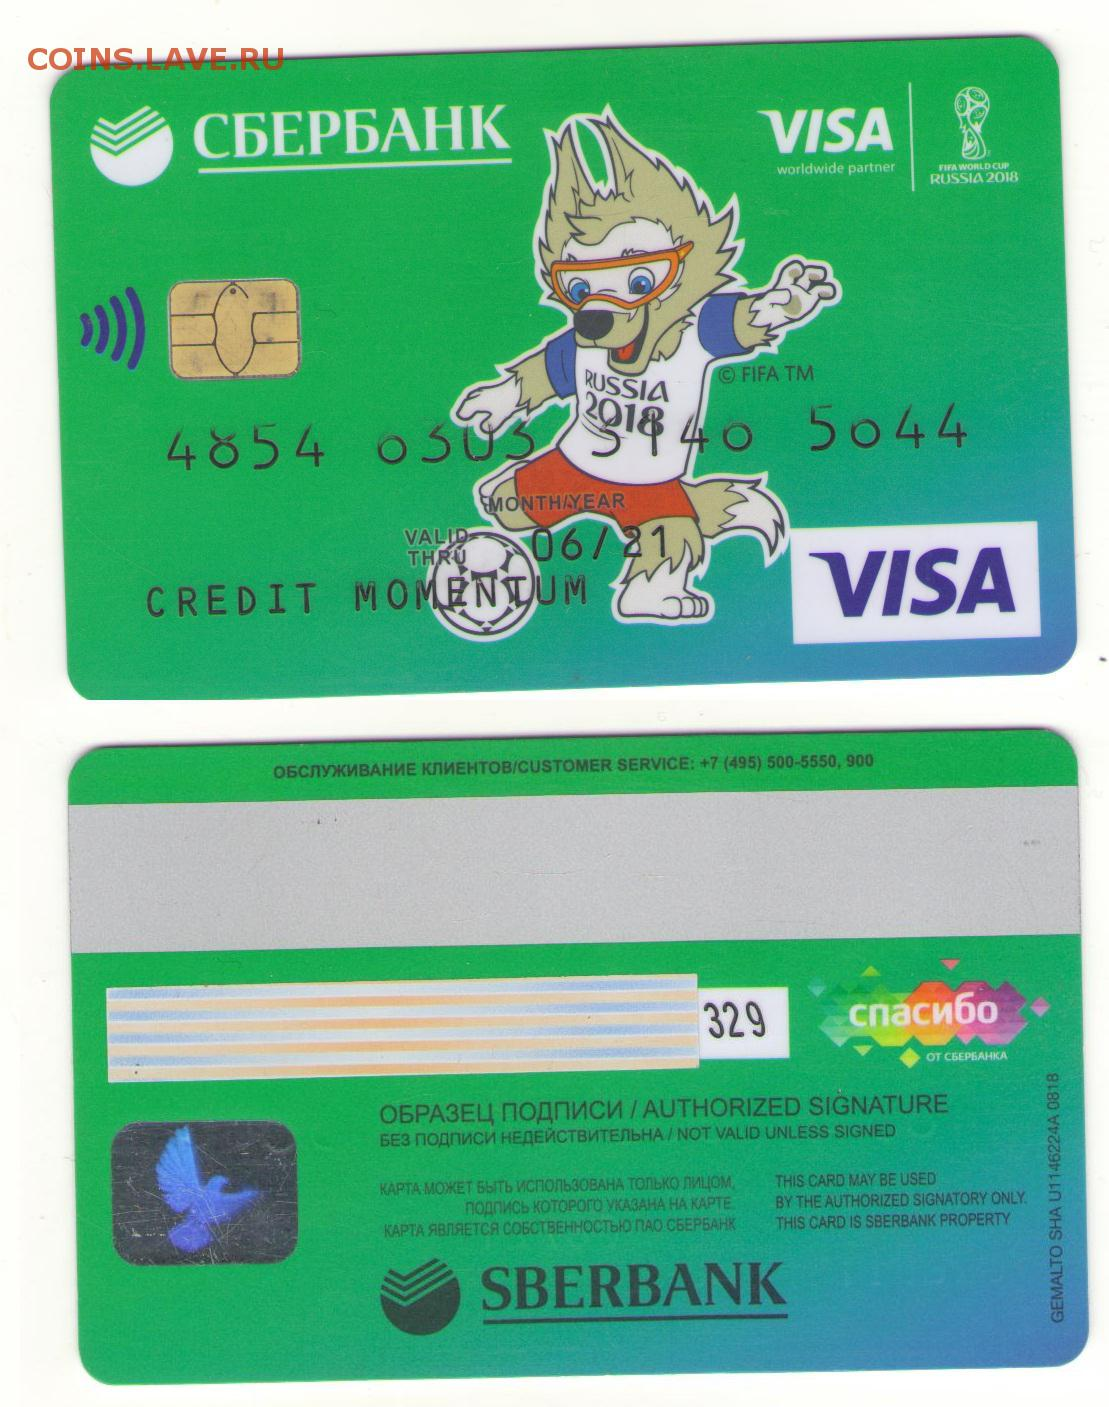card: (49, 33, 1076, 703), (65, 727, 1092, 1386)
